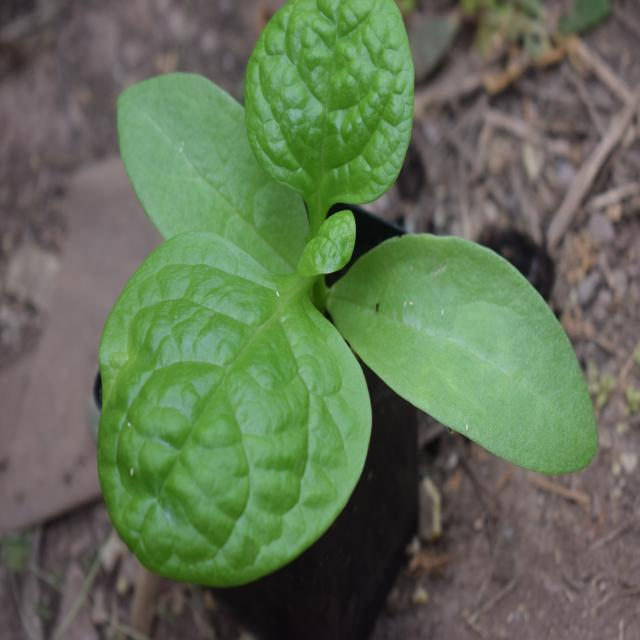Ceylon spinach: (79, 14, 587, 532)
